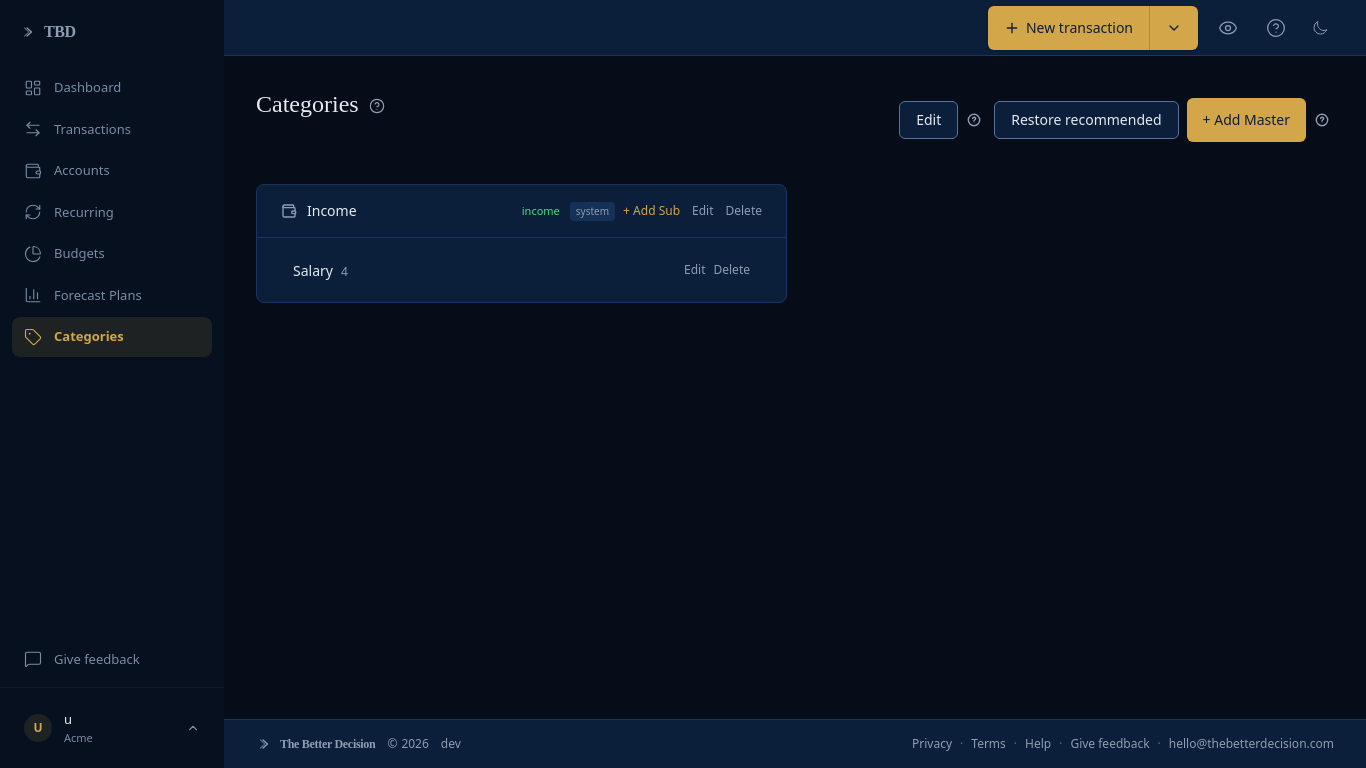
CategoriesPage - single delete with reassign › shows a no-target-available message when a tx-bearing category has no compatible master
Expected: the text "Salary" is shown, x1=293 y1=261 x2=333 y2=280
Click the button with aria-label "Delete Salary". click: [732, 270]
box: x1=714 y1=262 x2=750 y2=278
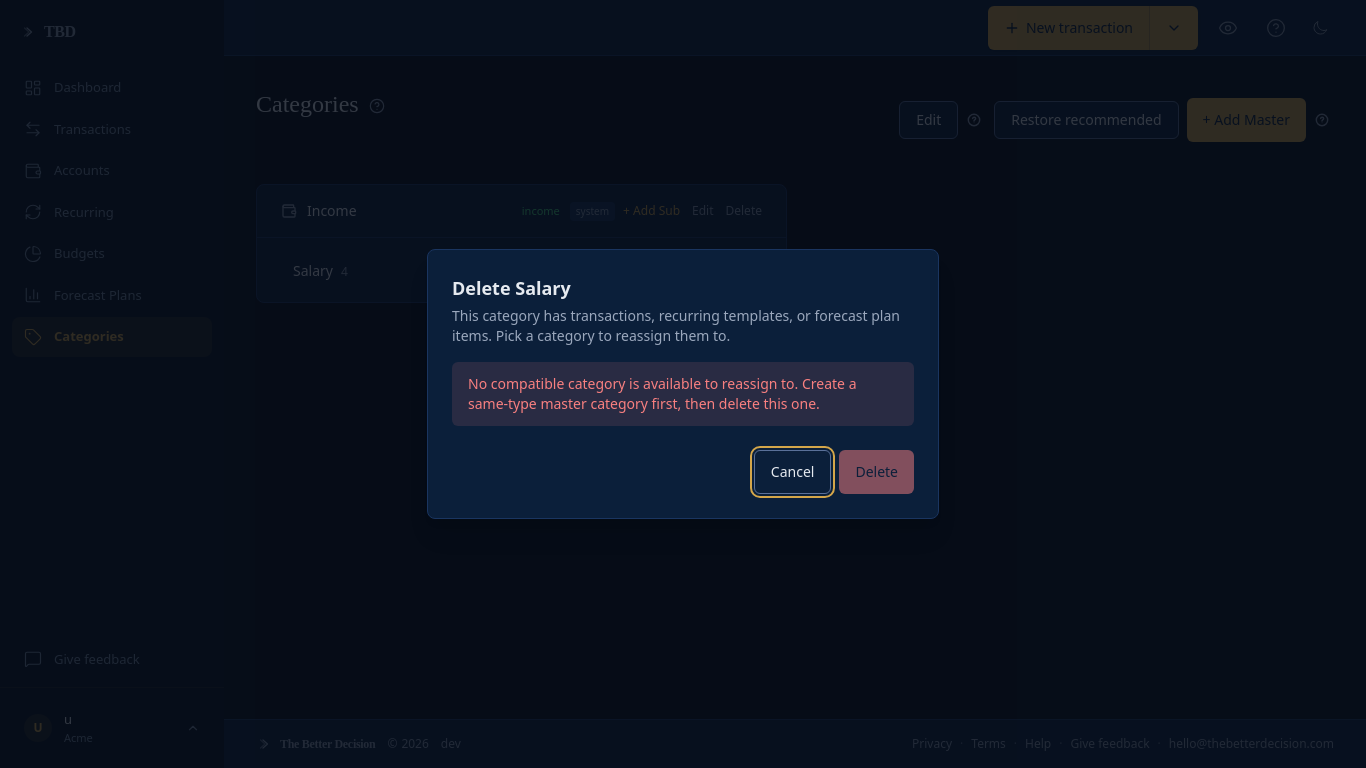
Expected: the dialog with test id "single-delete-modal" is shown, x1=427 y1=249 x2=939 y2=519
Expected: the text with test id "single-delete-no-target" is shown, x1=452 y1=362 x2=914 y2=426
Expected: the button with test id "single-delete-confirm" is disabled, x1=839 y1=450 x2=914 y2=494
